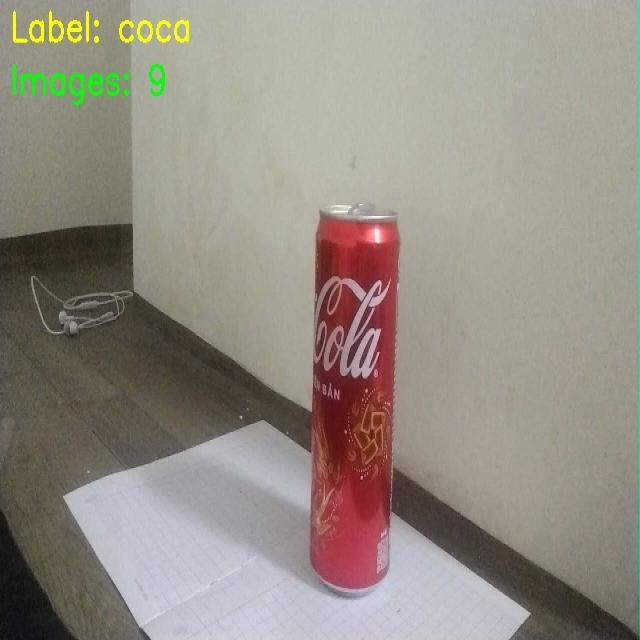Coca: (292, 179, 424, 597)
